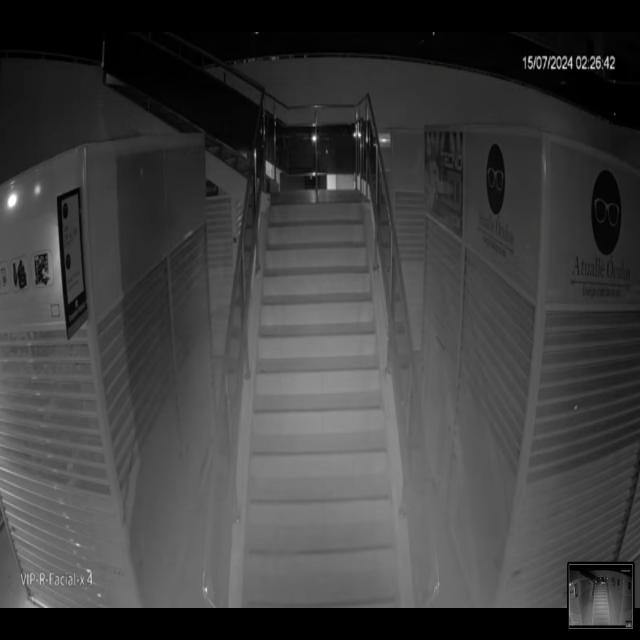Atencao: (113, 217, 540, 601)
